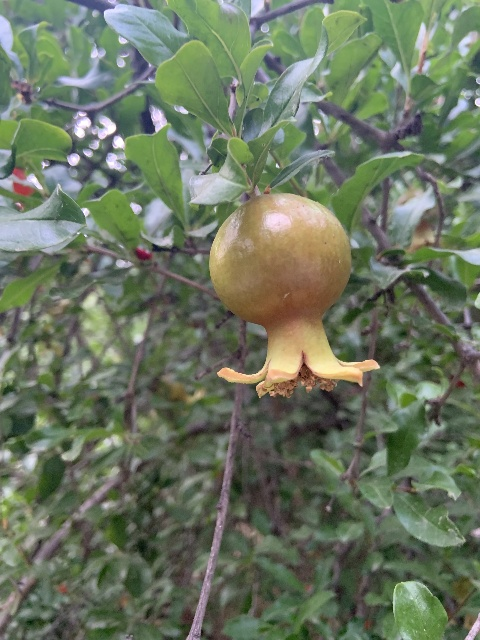early-fruit: (208, 192, 378, 400)
